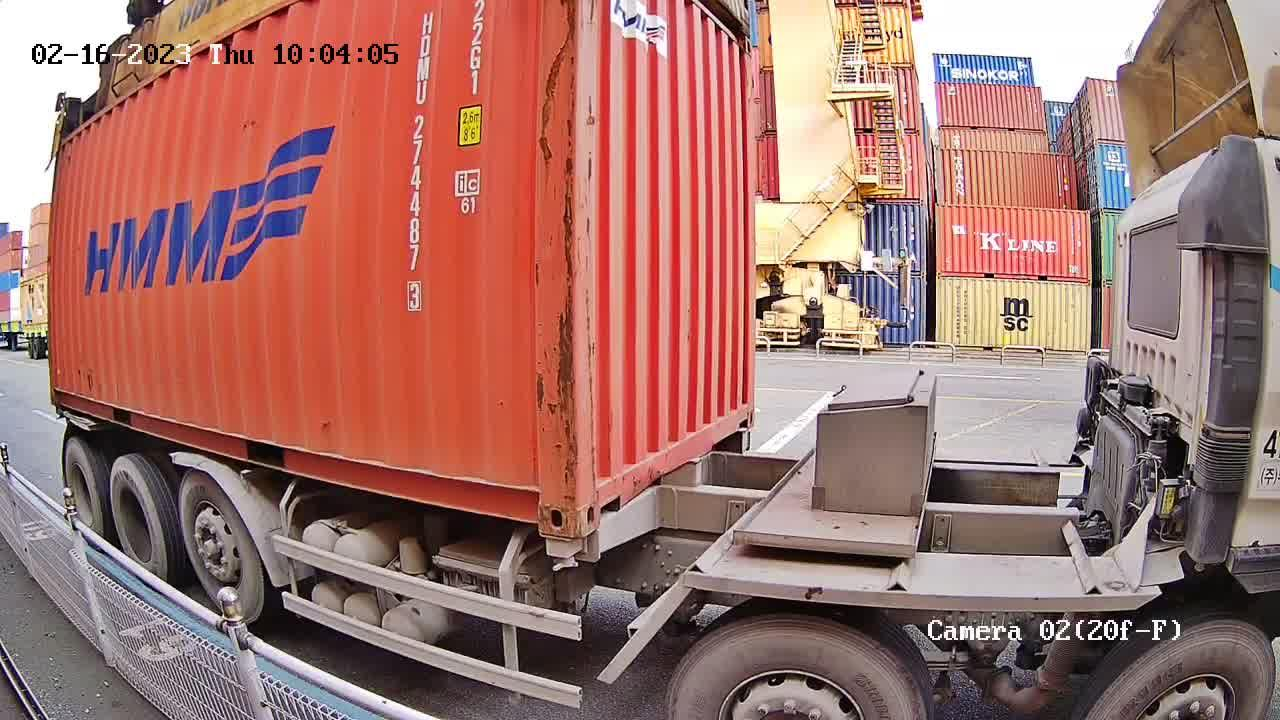Chassis: (544, 429, 750, 562)
Cone: (539, 533, 589, 570)
Hole_L: (578, 447, 623, 539)
Hole_R: (508, 463, 576, 540), (729, 388, 757, 431)
Tire: (180, 472, 262, 619), (107, 460, 170, 591), (62, 442, 105, 547)
